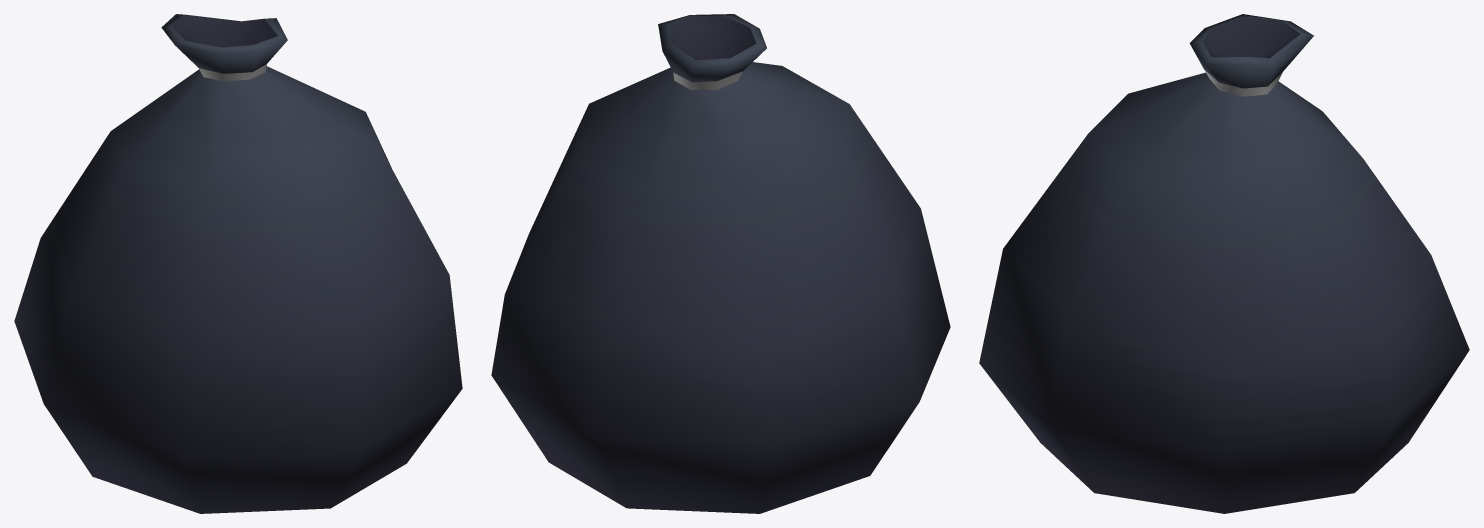
File: Trashbag_A_2.glb
3 renders of one model, left to right at view 1: azimuth 30°, elevation 25°; view 2: azimuth 150°, elevation 25°; view 3: azimuth 270°, elevation 25°, orthographic. The views are drawn at different scales.
Visible parts, largest first — view 1: Trashbag_A_2; view 2: Trashbag_A_2; view 3: Trashbag_A_2.
Part boxes in pixels (x1,y1,x2,y2): Trashbag_A_2: [14, 14, 462, 513]; Trashbag_A_2: [491, 14, 950, 513]; Trashbag_A_2: [979, 14, 1469, 513].
Size of the model in its own units: 0.4335 by 0.4307 by 0.4736.
Materials: 1 (1 with a texture image).
